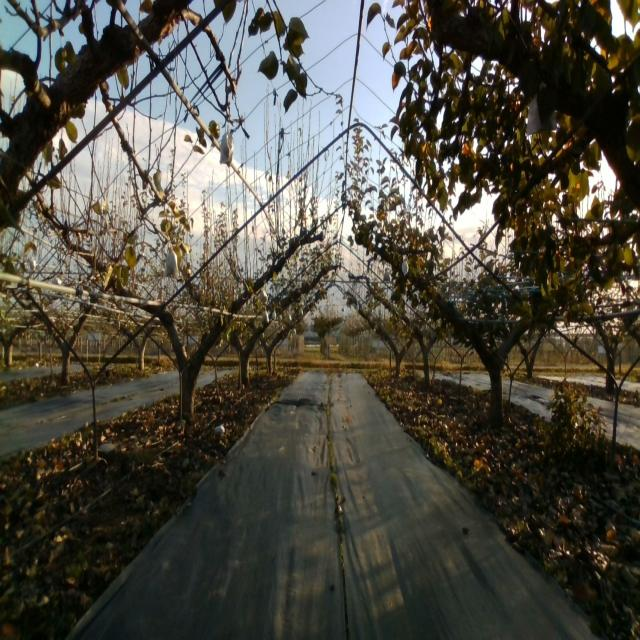pearbags: (162, 241, 180, 280), (219, 125, 234, 168)
